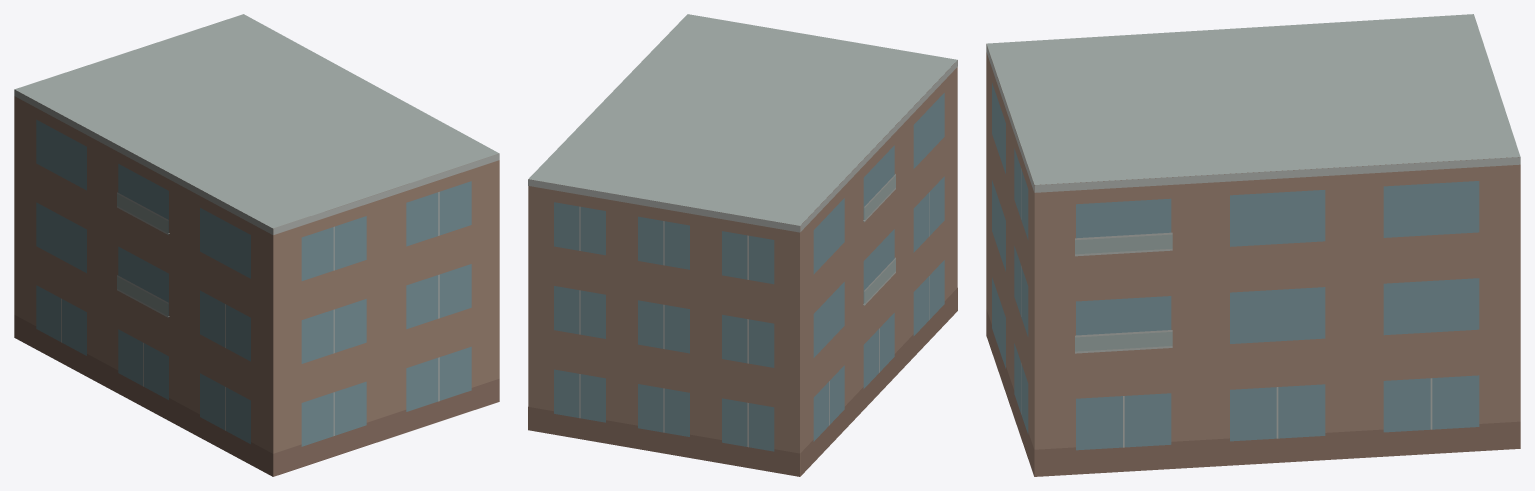
The model's file is survey-upis-32879986.glb.
3 renders of one model, left to right at view 1: azimuth 30°, elevation 25°; view 2: azimuth 150°, elevation 25°; view 3: azimuth 270°, elevation 25°, orthographic. The views are drawn at different scales.
Parts seen in each view (by area): view 1: survey-upis-32879986.tmp; view 2: survey-upis-32879986.tmp; view 3: survey-upis-32879986.tmp.
Boxes of the visible parts, x1=… form: survey-upis-32879986.tmp: x1=14, y1=14, x2=499, y2=476; survey-upis-32879986.tmp: x1=528, y1=14, x2=957, y2=476; survey-upis-32879986.tmp: x1=986, y1=14, x2=1520, y2=476.
Bounding box in the file's own units: 11.51 × 9.15 × 15.19.
